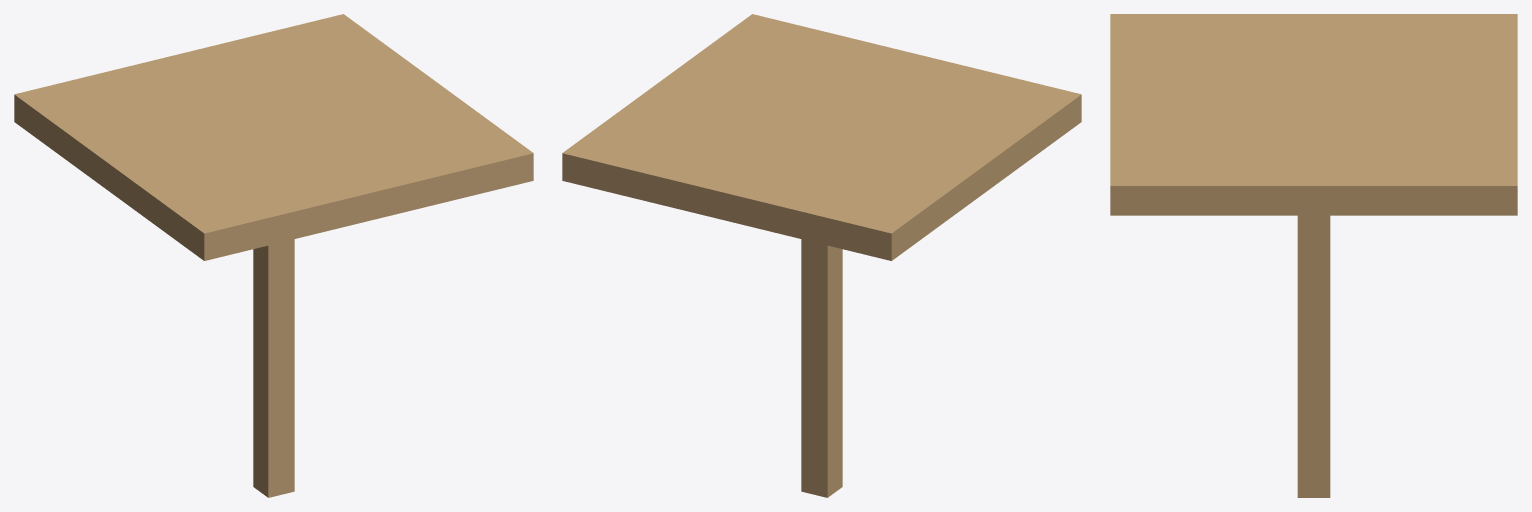
3 views of the same model, side by side, from view 1: azimuth 30°, elevation 25°; view 2: azimuth 150°, elevation 25°; view 3: azimuth 270°, elevation 25° (orthographic). The views are drawn at different scales.
Visible parts, largest first — view 1: side-top, side-leg; view 2: side-top, side-leg; view 3: side-top, side-leg.
Part boxes in pixels (left/top/right/bottom): side-top: left=14, top=14, right=533, bottom=260; side-leg: left=253, top=239, right=294, bottom=497; side-top: left=562, top=14, right=1081, bottom=260; side-leg: left=801, top=239, right=842, bottom=497; side-top: left=1110, top=14, right=1517, bottom=215; side-leg: left=1297, top=215, right=1330, bottom=497.
Bounding box in the file's own units: 0.5 × 0.53 × 0.5.
